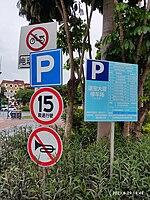Parking Lot Cars: (29, 54, 65, 85)
